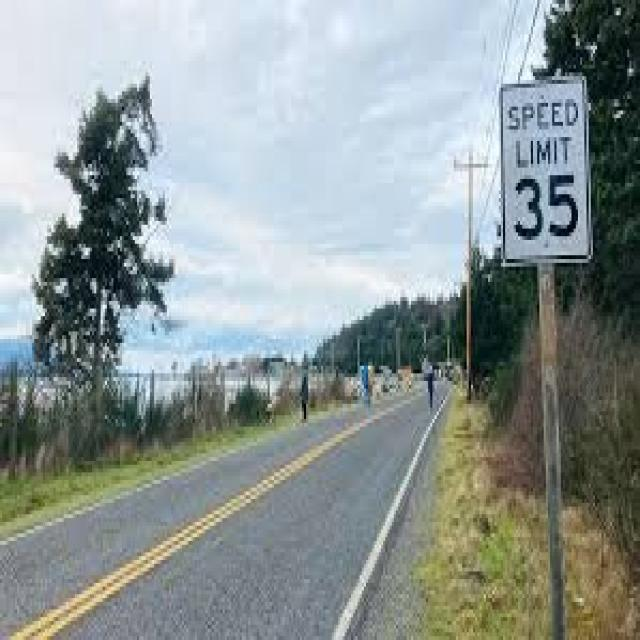speedLimit35: (498, 71, 588, 265)
